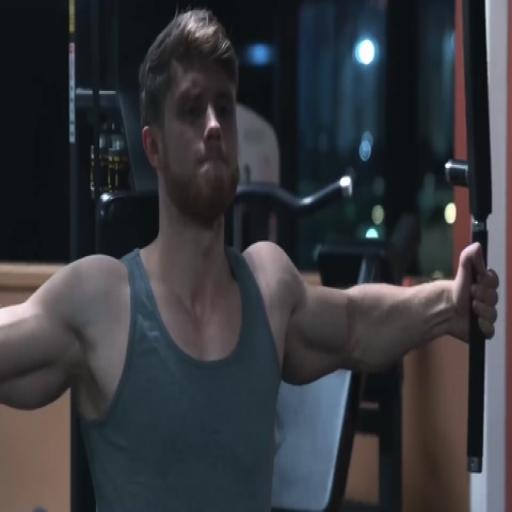exercise: (0, 7, 500, 510)
